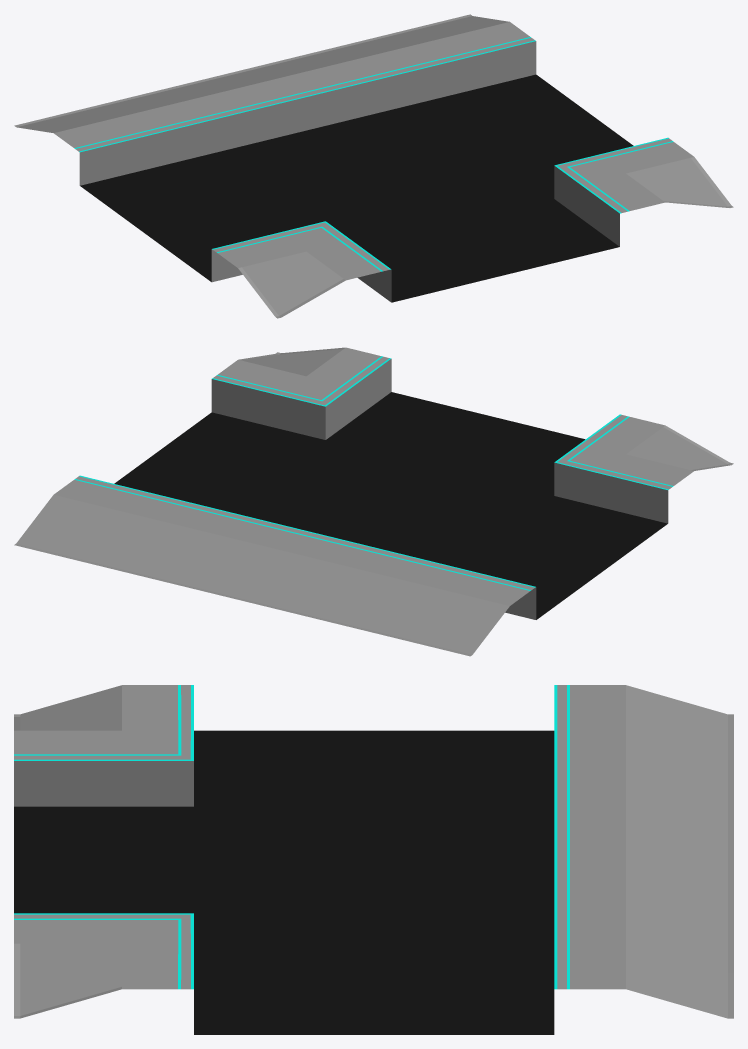
Rendered from pressure_plate_base_heavy_t_junction_01.FBX.
3 views of the same model, one above another, from view 1: azimuth 30°, elevation 25°; view 2: azimuth 150°, elevation 25°; view 3: azimuth 270°, elevation 25° (orthographic). The views are drawn at different scales.
Parts seen in each view (by area): view 1: pressure_plate_base_heavy_t_junction_01; view 2: pressure_plate_base_heavy_t_junction_01; view 3: pressure_plate_base_heavy_t_junction_01.
Part boxes in pixels (x1,y1,x2,y2): pressure_plate_base_heavy_t_junction_01: (14,14,733,318); pressure_plate_base_heavy_t_junction_01: (14,347,733,656); pressure_plate_base_heavy_t_junction_01: (14,685,733,1034).
Size of the model in its own units: 400 by 27.96 by 400.
